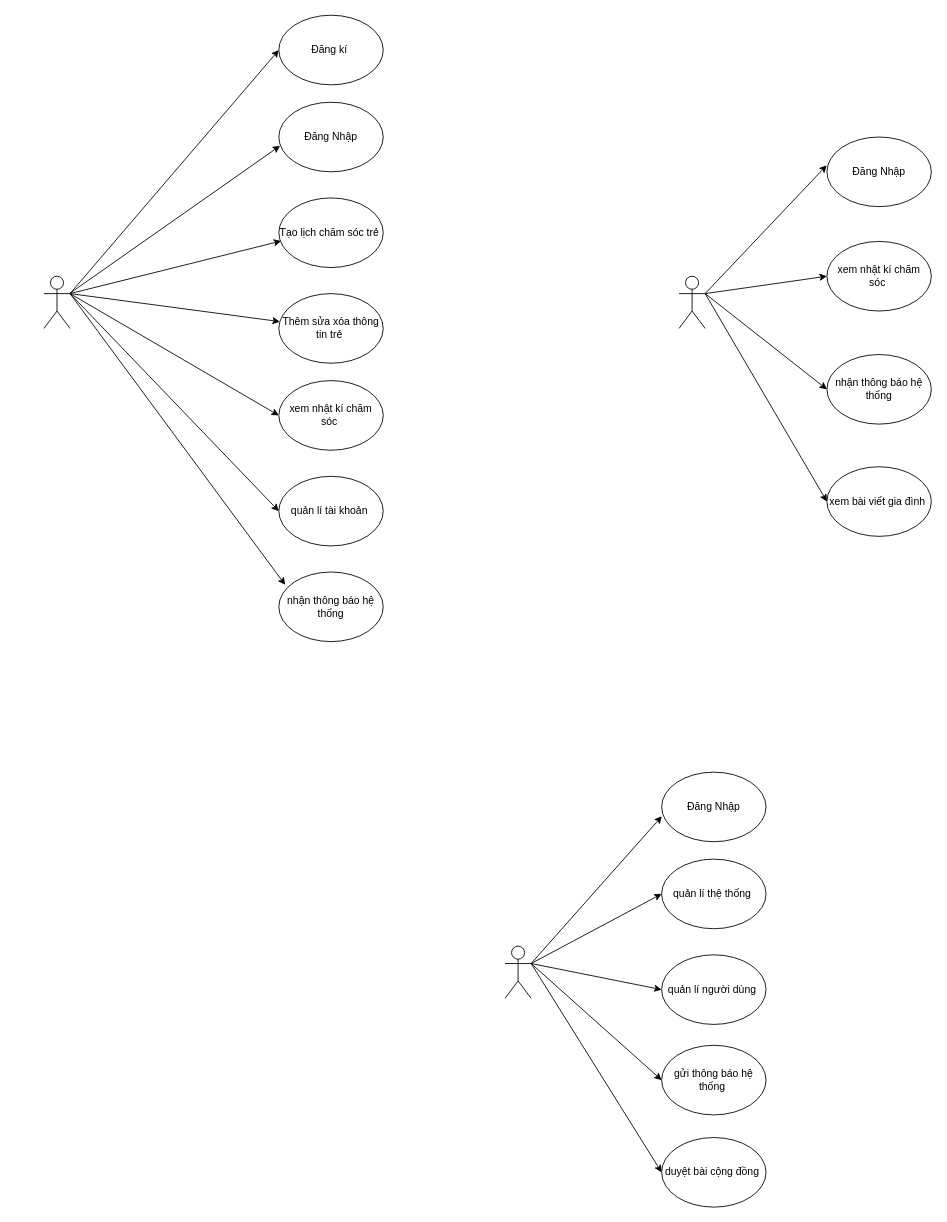
The diagram is 947 pixels wide and 1222 high, and some of its shapes have lost their labels. The centre of each missing label's shape, as x and y in pixels:
"Admin" belongs at pixel 517 971.
"Người dùng chính" belongs at pixel 56 301.
"Người dùng phụ" belongs at pixel 691 301.
